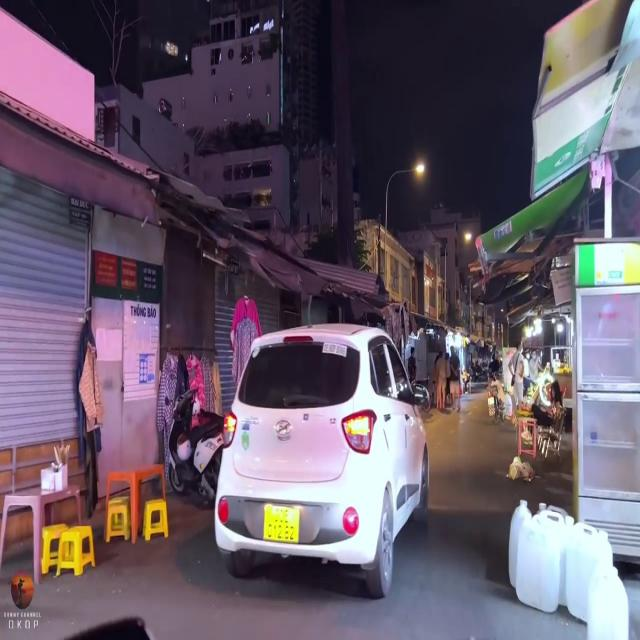bien_vang: (262, 506, 300, 547)
